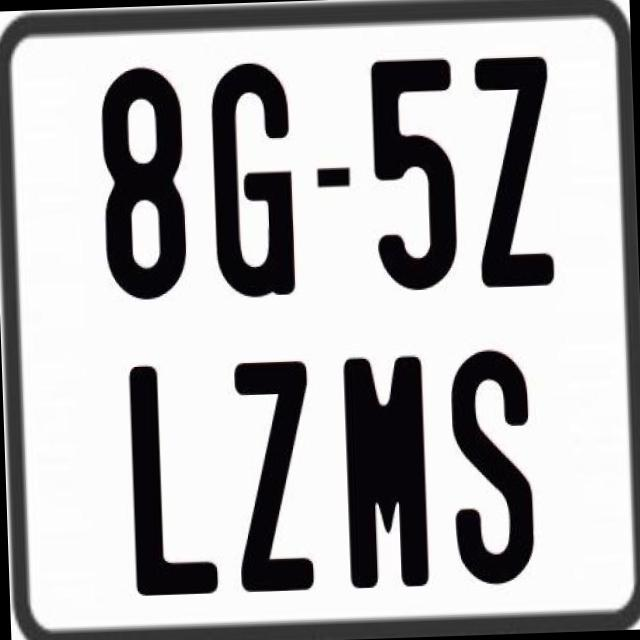5: (366, 54, 456, 289)
8: (96, 61, 185, 300)
G: (206, 59, 292, 298)
L: (128, 360, 220, 592)
M: (340, 352, 432, 594)
S: (450, 348, 540, 590)
Z: (474, 54, 562, 292), (231, 360, 319, 595)
